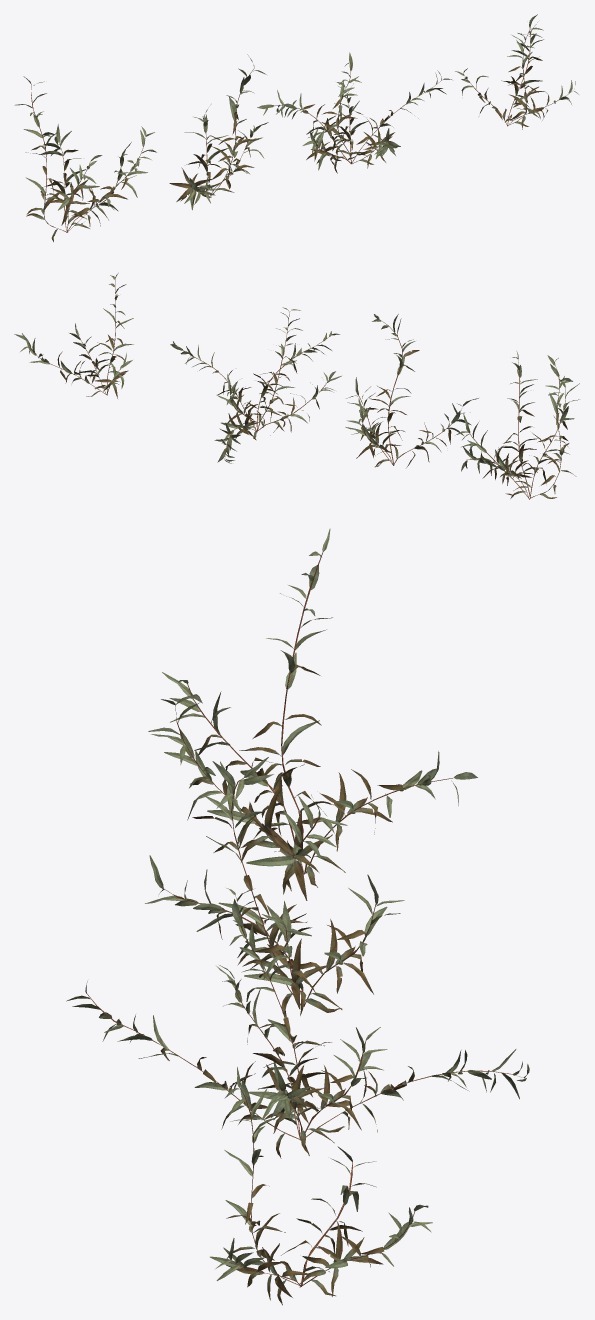
File: ph-shrub_02.glb
3 views of the same model, one above another, from view 1: azimuth 30°, elevation 25°; view 2: azimuth 150°, elevation 25°; view 3: azimuth 270°, elevation 25° (orthographic). The views are drawn at different scales.
Visible parts, largest first — view 1: shrub_02; view 2: shrub_02; view 3: shrub_02.
Part boxes in pixels (x1,y1,x2,y2): shrub_02: [14, 14, 578, 241]; shrub_02: [14, 273, 579, 499]; shrub_02: [66, 528, 529, 1305].
Size of the model in its own units: 6.04 by 1.7 by 2.28.
1 material, 1 textured.
